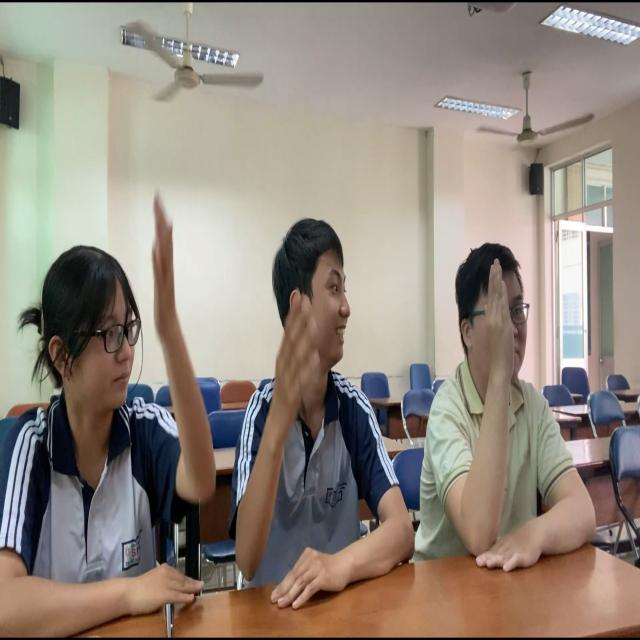raise_hand: (10, 190, 225, 640), (427, 238, 596, 582)
